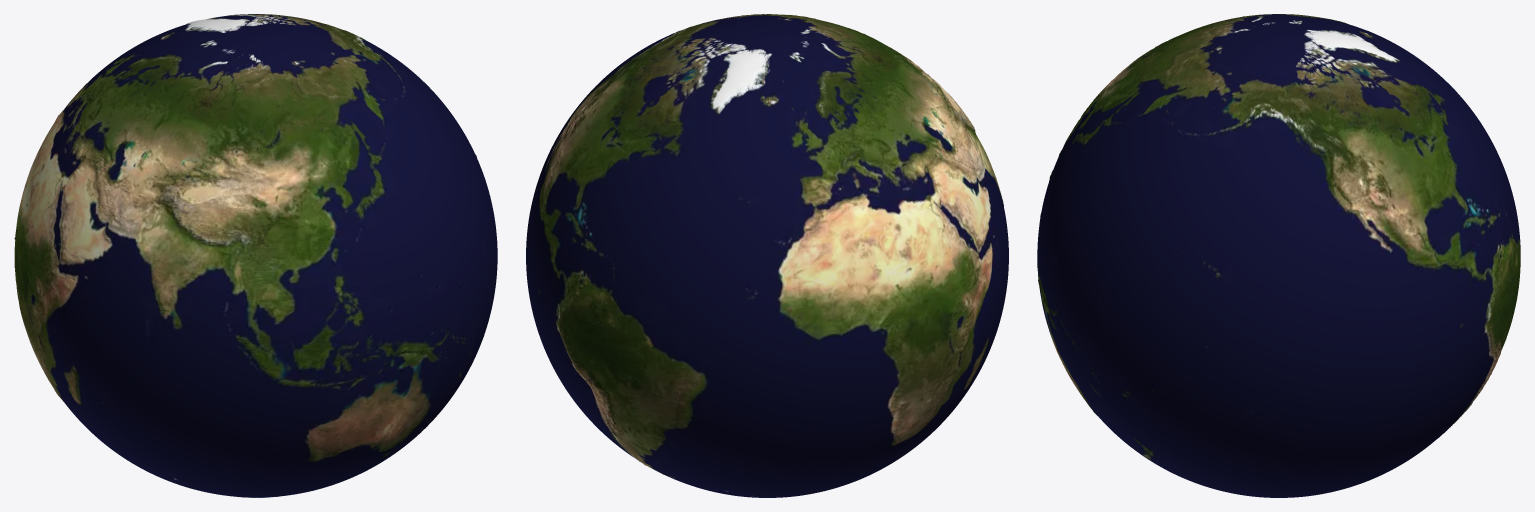
Rendered from realistic_earth-opt.glb.
3 views of the same model, side by side, from view 1: azimuth 30°, elevation 25°; view 2: azimuth 150°, elevation 25°; view 3: azimuth 270°, elevation 25° (orthographic).
Parts seen in each view (by area): view 1: Earth; view 2: Earth; view 3: Earth.
Part boxes in pixels (x1,y1,x2,y2): Earth: (14,14,497,497); Earth: (526,14,1008,497); Earth: (1037,14,1520,497).
Bounding box in the file's own units: 2 × 2 × 2.
Materials: 1 (1 with a texture image).
